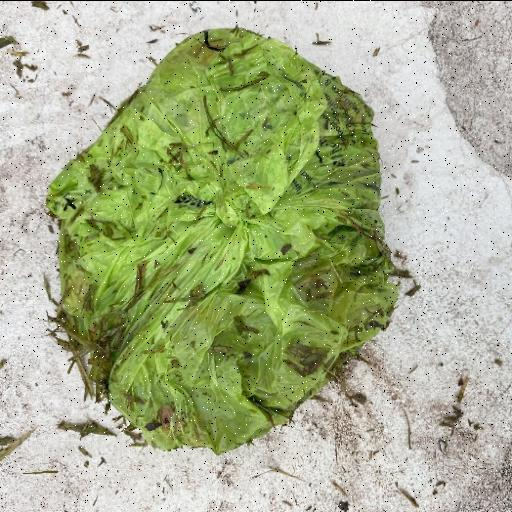Waste: (42, 24, 402, 456)
